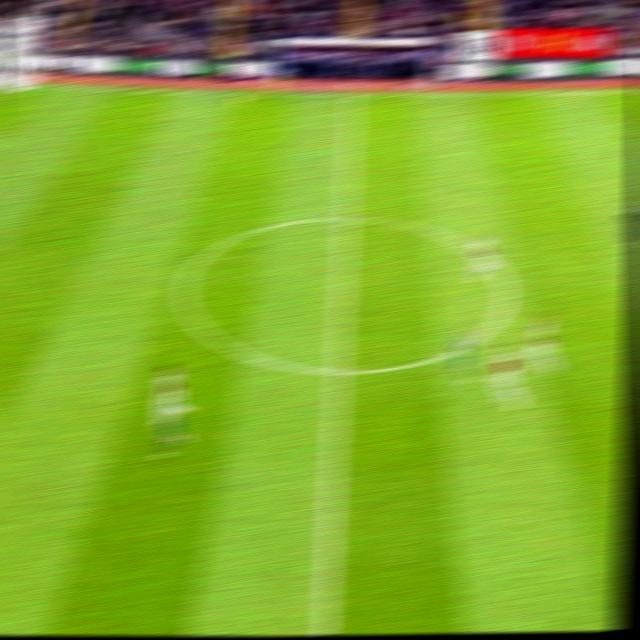halfcircle_bottom: (320, 349, 358, 391)
halfcircle_top: (328, 201, 364, 235)
midline_top_intersection: (336, 78, 368, 111)
